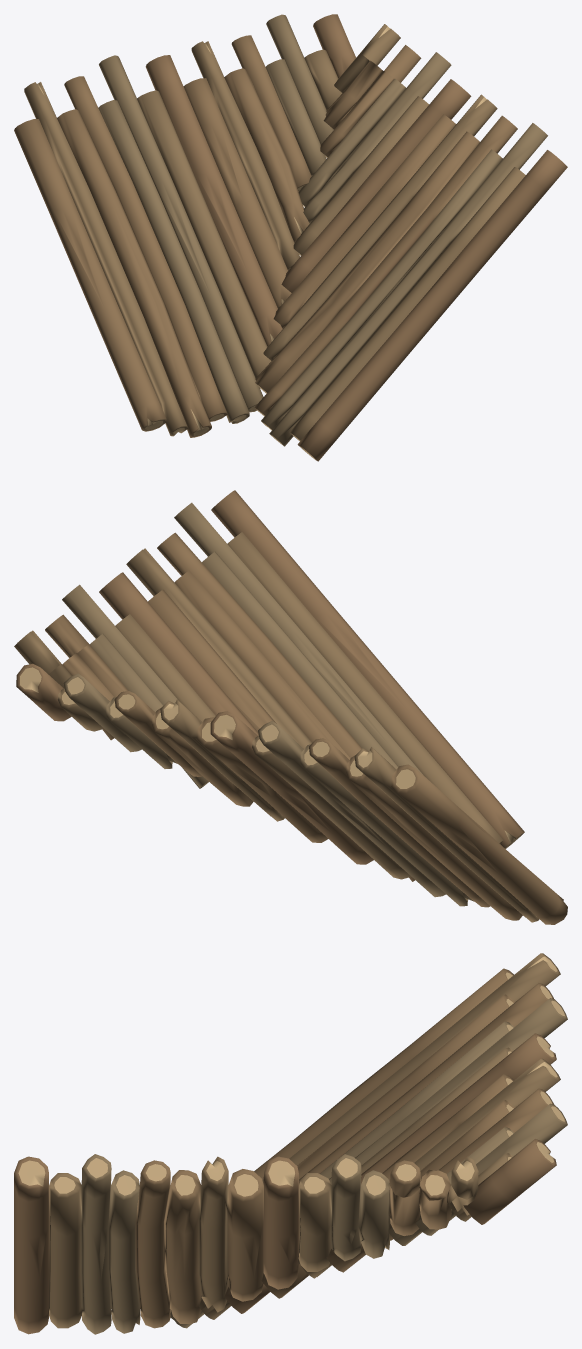
File: rpgpp_ag_roof_01_6x3x3_corner_01.fbx
3 views of the same model, one above another, from view 1: azimuth 30°, elevation 25°; view 2: azimuth 150°, elevation 25°; view 3: azimuth 270°, elevation 25° (orthographic). The views are drawn at different scales.
Visible parts, largest first — view 1: rpgpp_ag_roof_01_6x3x3_corner_01; view 2: rpgpp_ag_roof_01_6x3x3_corner_01; view 3: rpgpp_ag_roof_01_6x3x3_corner_01.
Part boxes in pixels (x1,y1,x2,y2): rpgpp_ag_roof_01_6x3x3_corner_01: (14, 14, 567, 461); rpgpp_ag_roof_01_6x3x3_corner_01: (14, 490, 567, 924); rpgpp_ag_roof_01_6x3x3_corner_01: (14, 953, 567, 1334).
Bounding box in the file's own units: 6.65 × 4.49 × 6.65.
